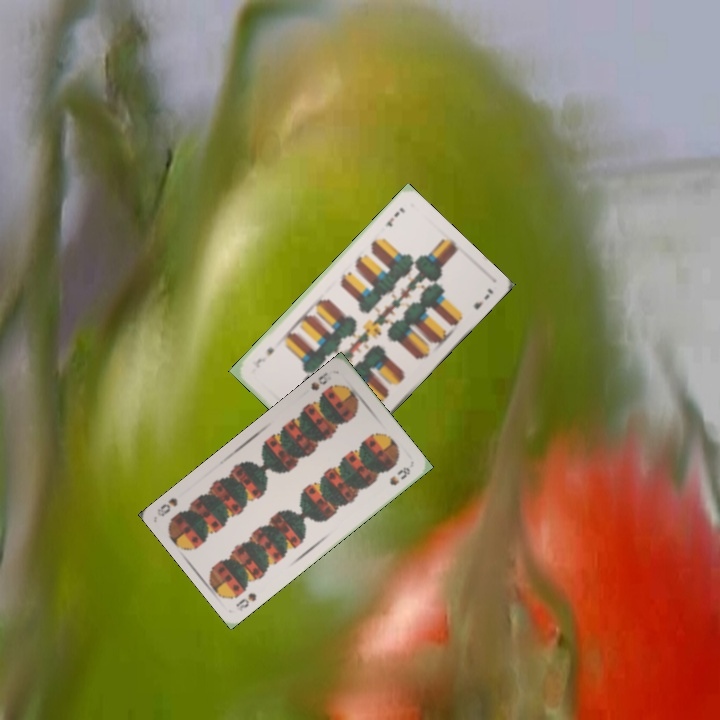E7: (382, 203, 408, 229)
S8: (232, 589, 259, 614), (307, 368, 330, 393)
